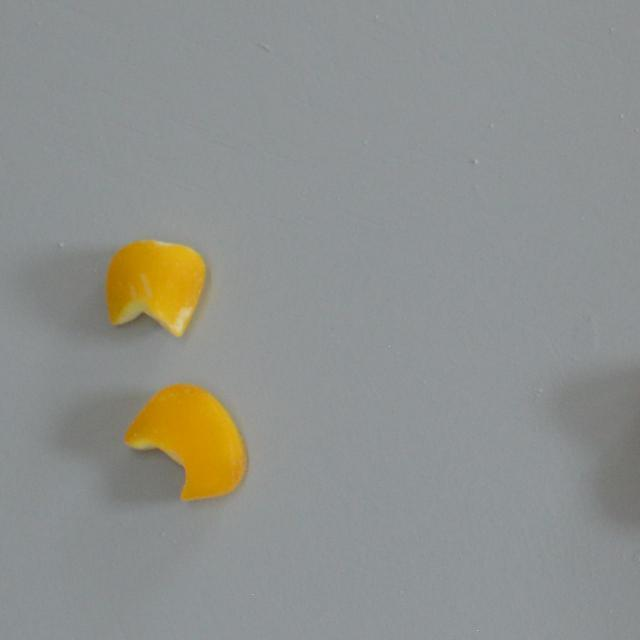dañado: (116, 379, 256, 508), (100, 233, 212, 342)
